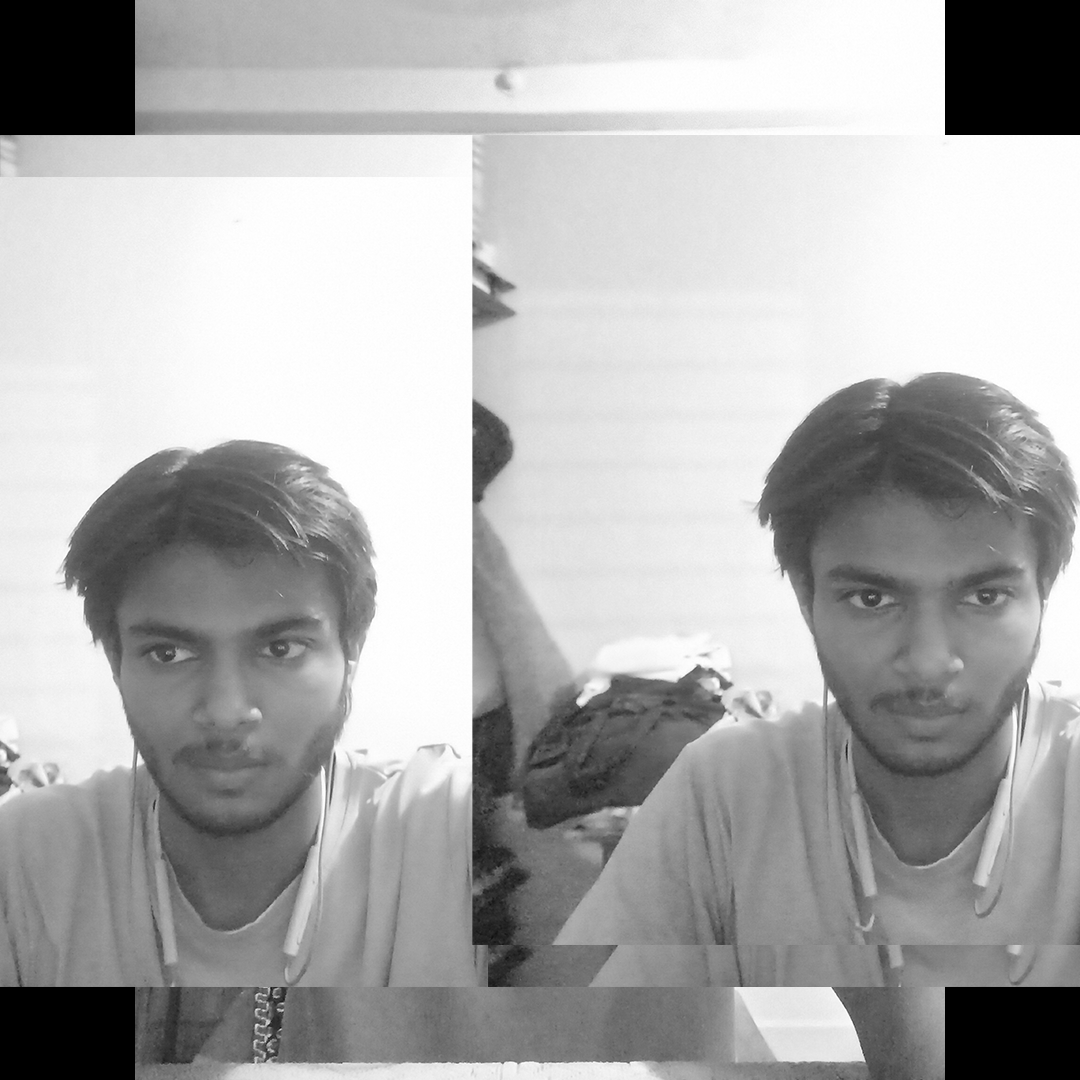Focused: (692, 280, 1075, 932), (50, 379, 441, 922)
